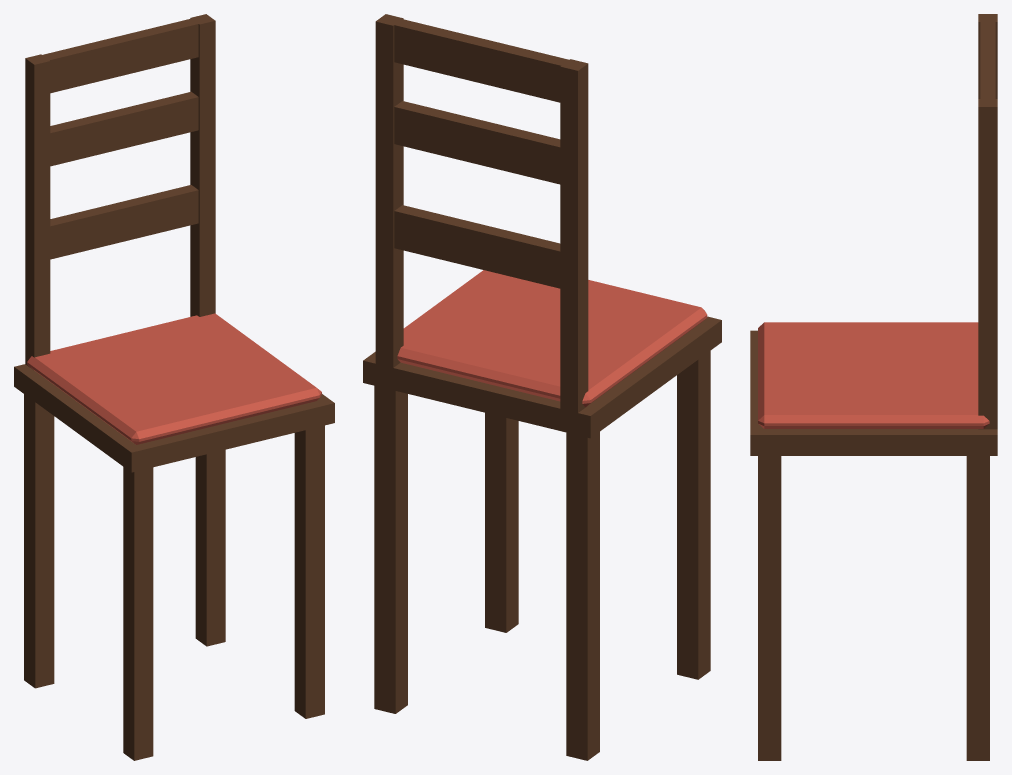
Rendered from chair.fbx.
3 views of the same model, side by side, from view 1: azimuth 30°, elevation 25°; view 2: azimuth 150°, elevation 25°; view 3: azimuth 270°, elevation 25° (orthographic). The views are drawn at different scales.
Parts seen in each view (by area): view 1: chair; view 2: chair; view 3: chair.
Part boxes in pixels (box(x1,y1,x2,y2)): chair: box(14, 14, 334, 760); chair: box(363, 14, 721, 760); chair: box(750, 14, 997, 760).
Bounding box in the file's own units: 0.32 × 0.93 × 0.32.
